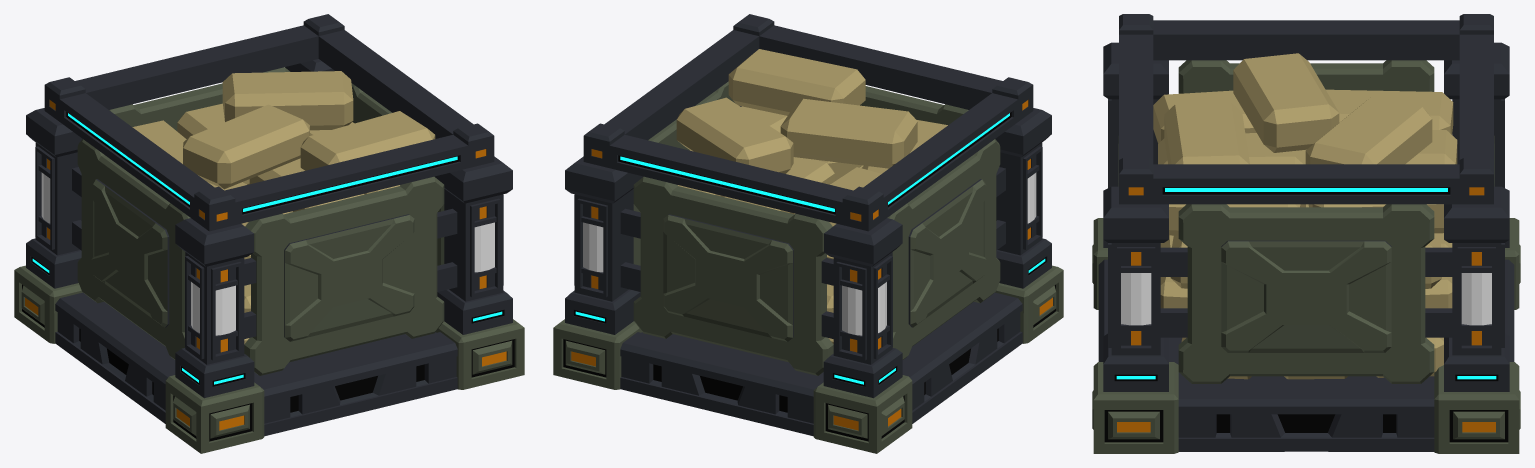
Rendered from SM_Military_Wall_T2.fbx.
The picture shows the model from 3 angles, left to right: view 1: azimuth 30°, elevation 25°; view 2: azimuth 150°, elevation 25°; view 3: azimuth 270°, elevation 25°; orthographic projection. The views are drawn at different scales.
Visible parts, largest first — view 1: SM_Military_Wall_T2; view 2: SM_Military_Wall_T2; view 3: SM_Military_Wall_T2.
Boxes of the visible parts, bbox=[...] form: SM_Military_Wall_T2: bbox=[14, 14, 524, 453]; SM_Military_Wall_T2: bbox=[553, 14, 1063, 453]; SM_Military_Wall_T2: bbox=[1092, 14, 1520, 453].
Size of the model in its own units: 101 by 70.6 by 101.
